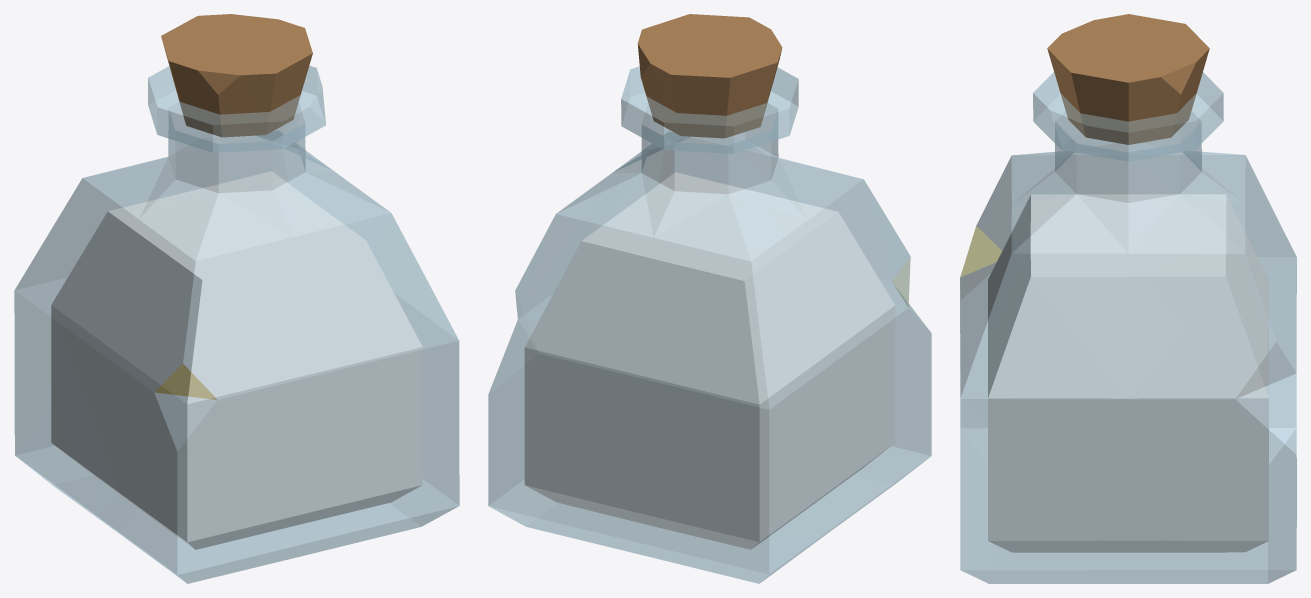
The model's file is AWS_Potion_Glow_001.fbx.
The picture shows the model from 3 angles, left to right: view 1: azimuth 30°, elevation 25°; view 2: azimuth 150°, elevation 25°; view 3: azimuth 270°, elevation 25°; orthographic projection. The views are drawn at different scales.
Visible parts, largest first — view 1: AWS_Potion_Glow_001; view 2: AWS_Potion_Glow_001; view 3: AWS_Potion_Glow_001.
Part boxes in pixels (left/top/right/bottom): AWS_Potion_Glow_001: left=14, top=14, right=459, bottom=583; AWS_Potion_Glow_001: left=488, top=14, right=931, bottom=583; AWS_Potion_Glow_001: left=960, top=14, right=1296, bottom=583.
Bounding box in the file's own units: 4.59 × 7.17 × 4.59.
